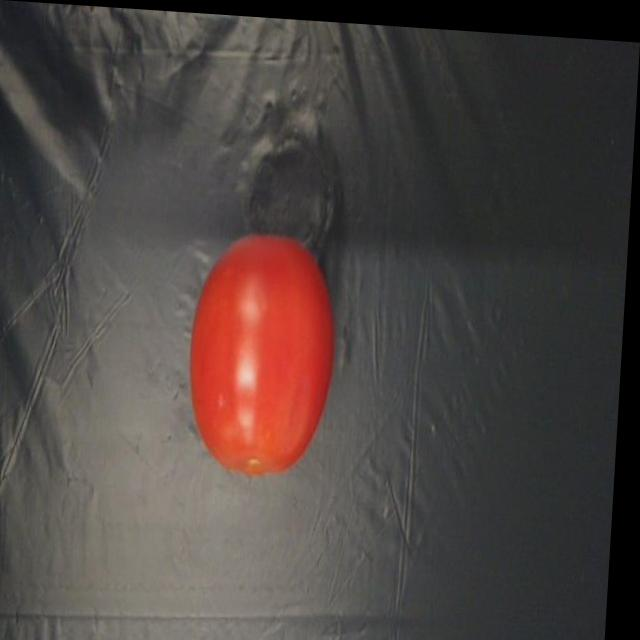kirmizi: (163, 228, 358, 479)
